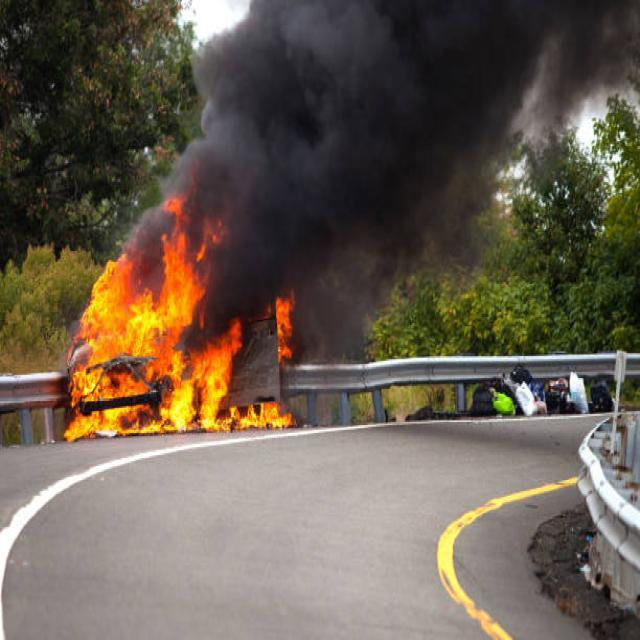Fire: (90, 252, 284, 435)
Smoke: (246, 0, 640, 108), (193, 59, 335, 352), (302, 104, 489, 280)
